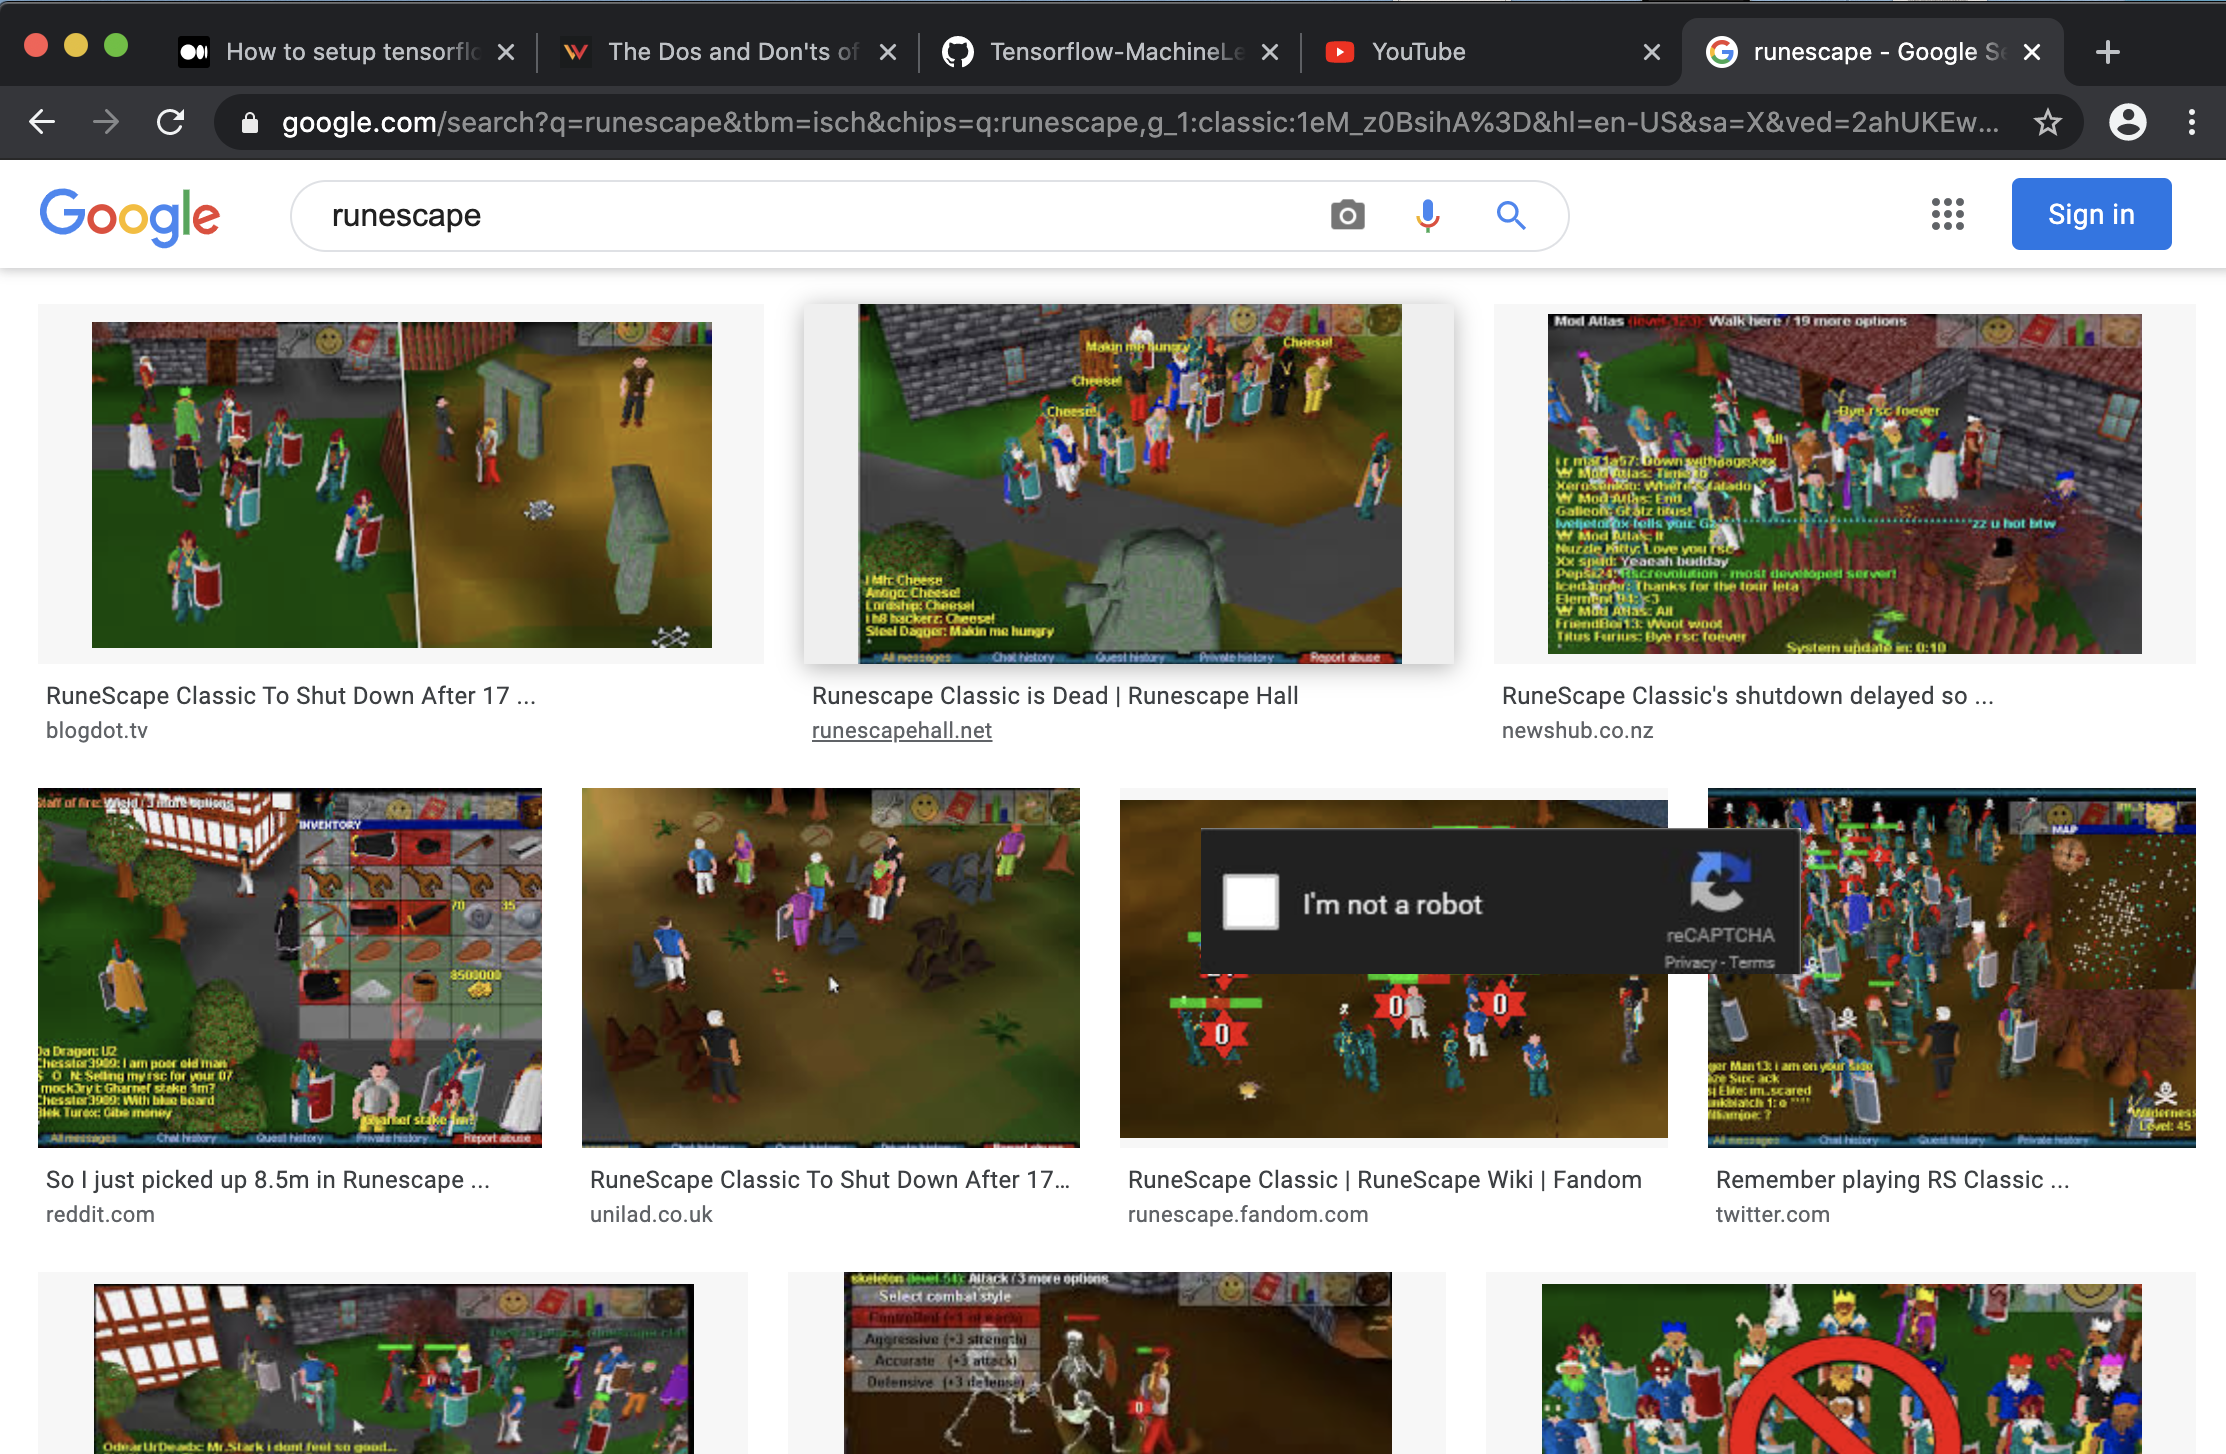captcha: (1192, 813, 1806, 1000)
